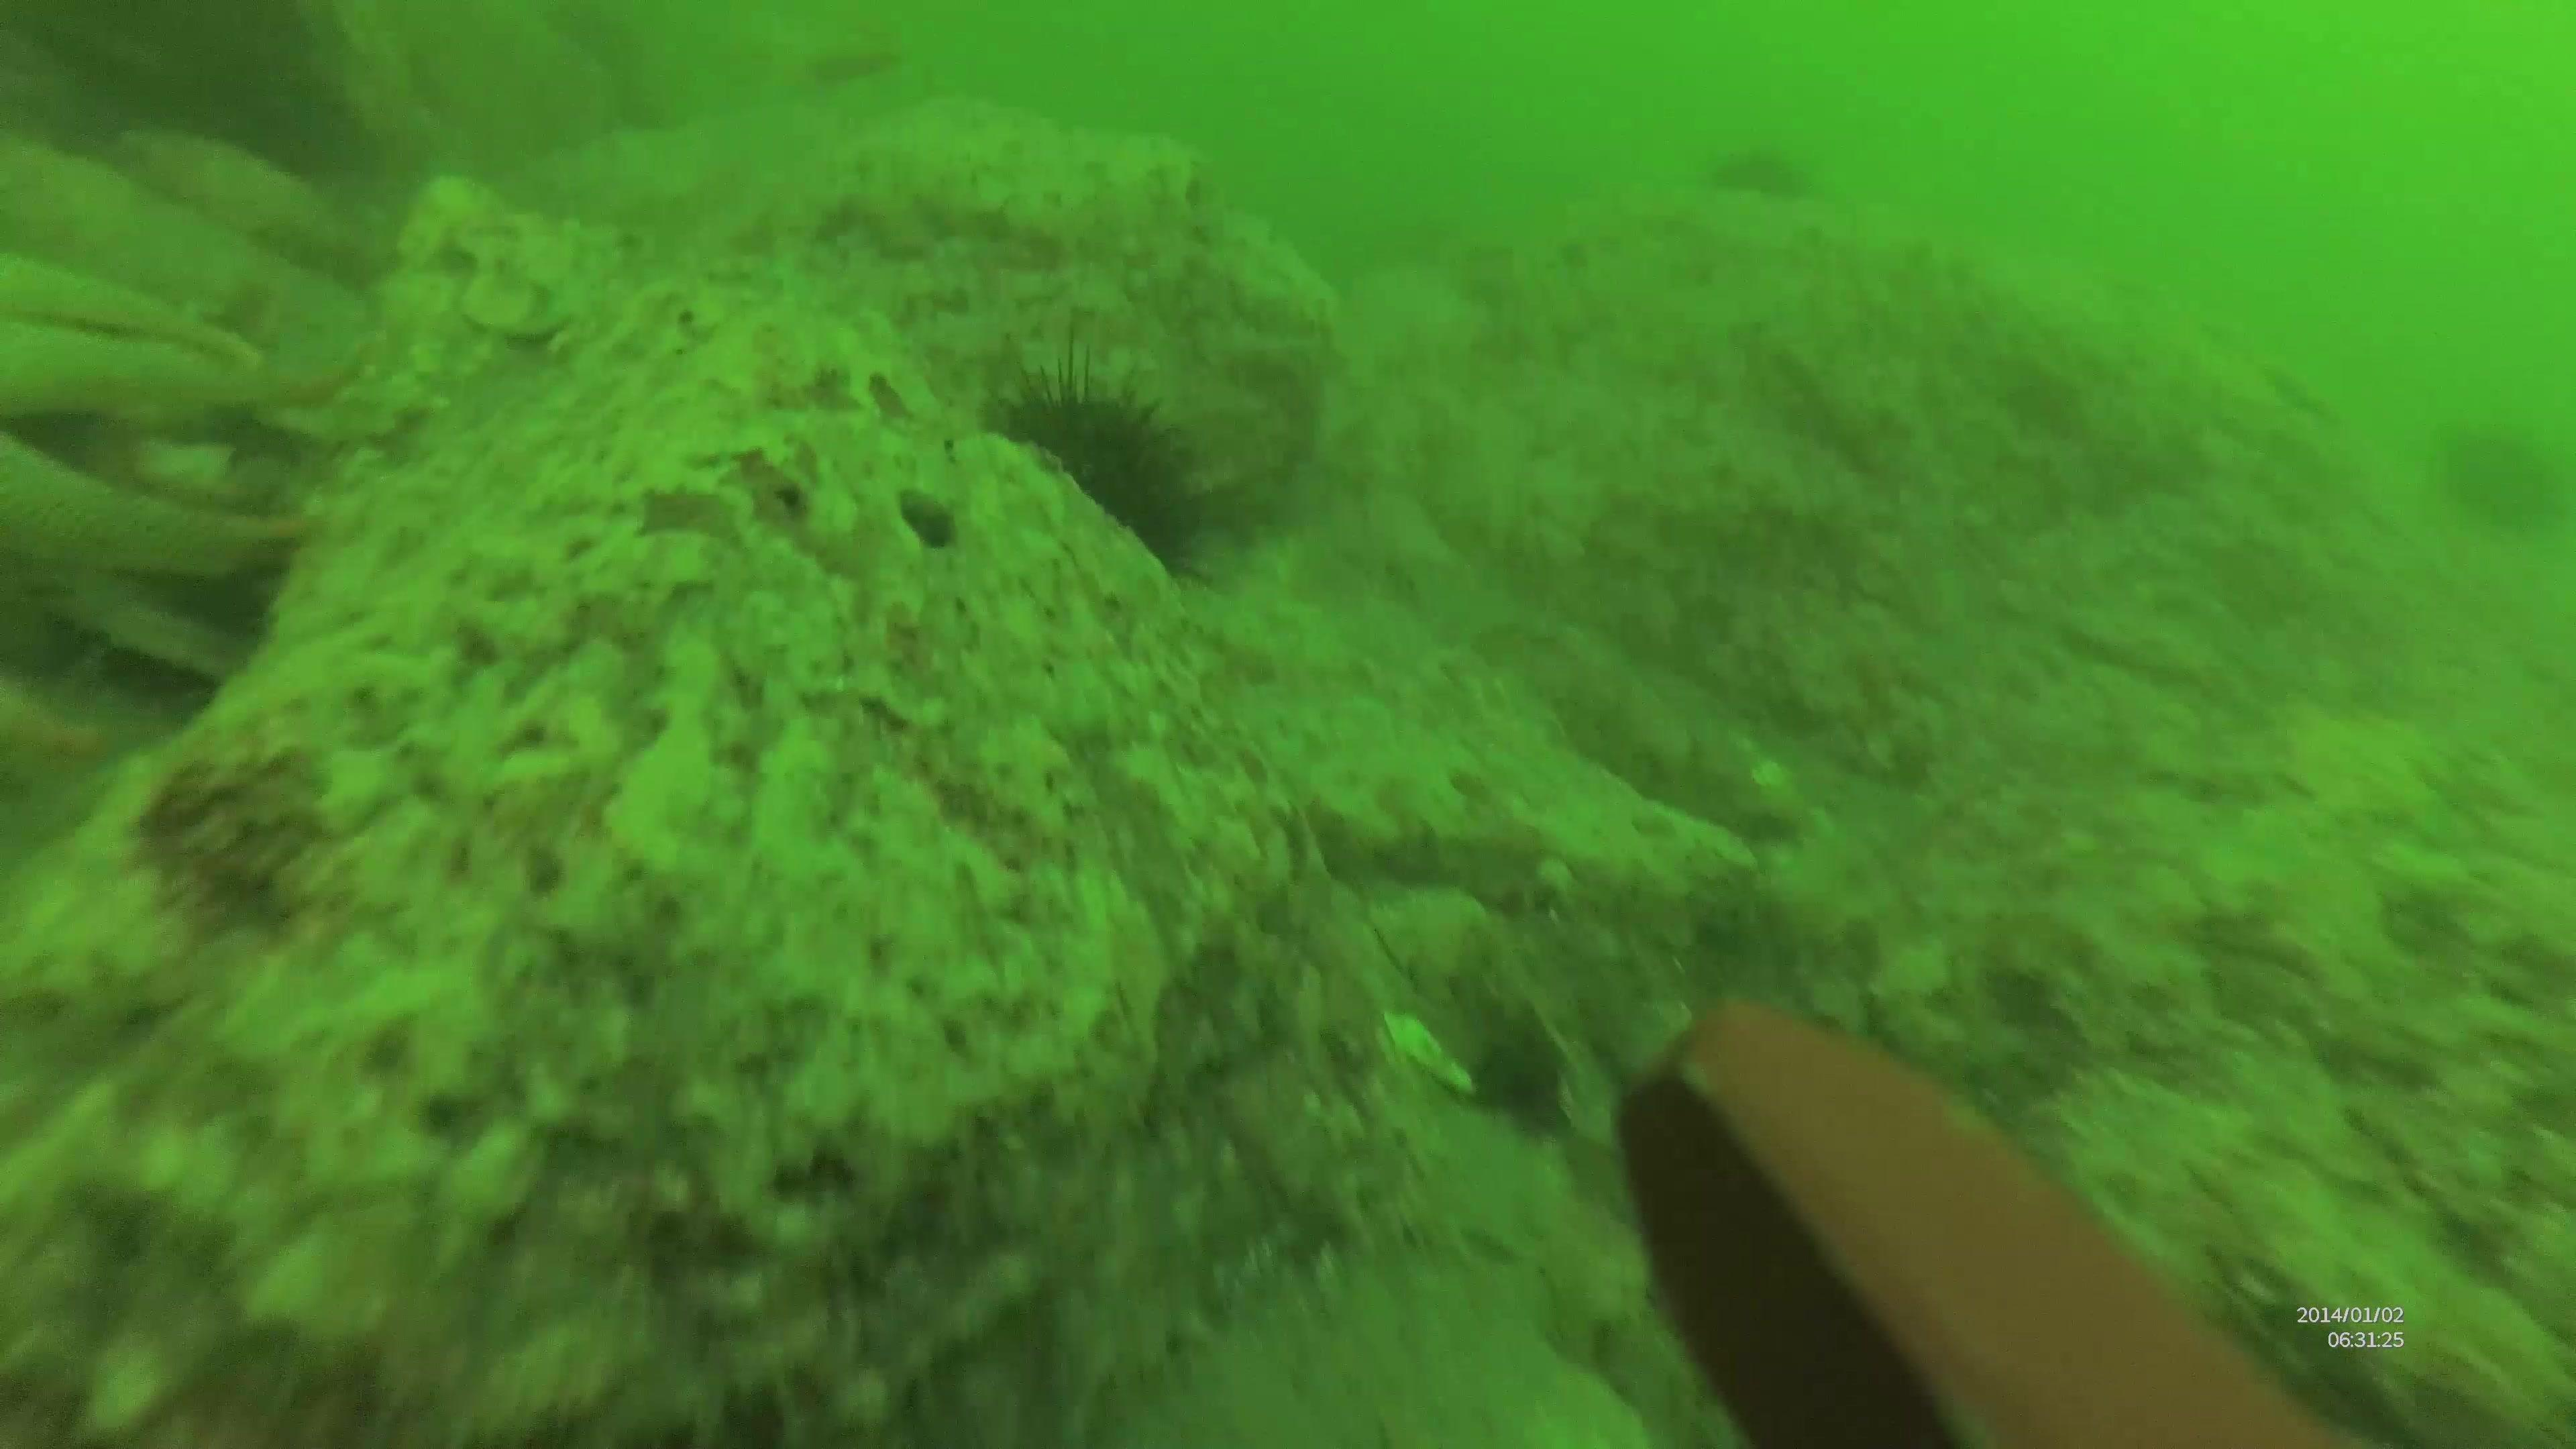echinus: (959, 340, 1205, 600)
